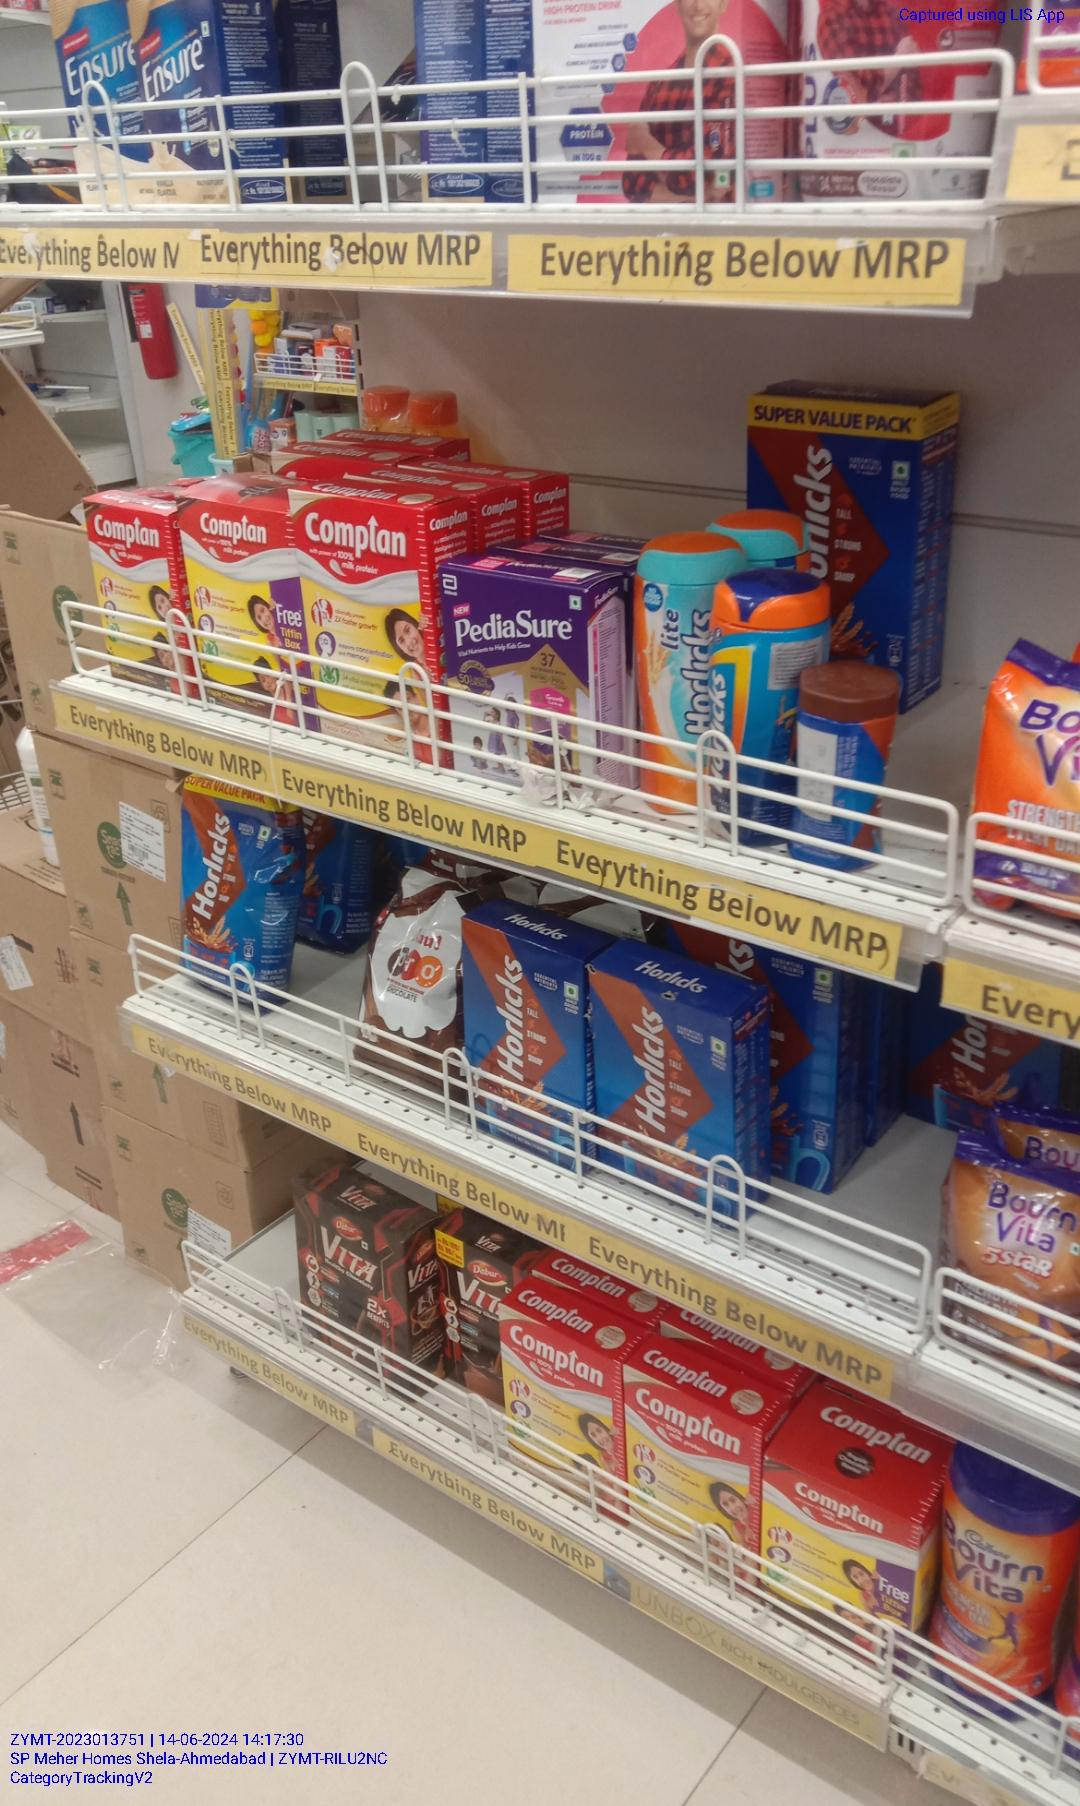COMPLAN_CHOCOLATE_200_GMS_PACK: (90, 500, 184, 693)
COMPLAN_CHOCOLATE_500_GMS_PACK: (184, 500, 303, 717)
COMPLAN_KESAR_BADAM_500_GMS_PACK: (307, 490, 432, 756)
HORLICKS_LITE_REGULAR_MALT_500_GM_JAR: (627, 533, 715, 820)
HORLICK_CHOCOLATE_500_G_PACK: (594, 991, 734, 1207), (468, 929, 584, 1166)
HORLICK_CHOCOLATE_750_G_POUCH: (177, 779, 265, 1000)
